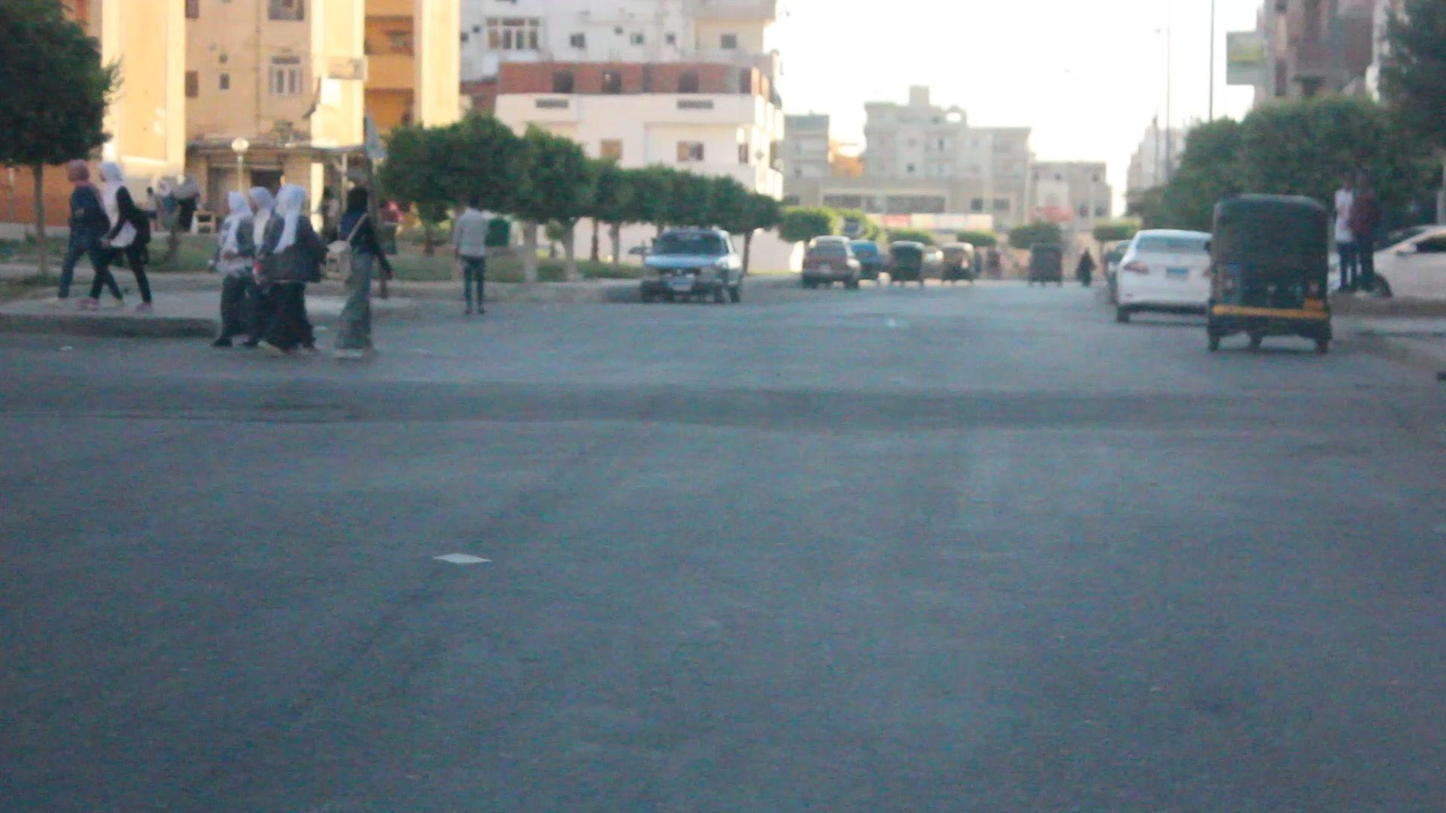Bump: (8, 336, 1445, 439)
